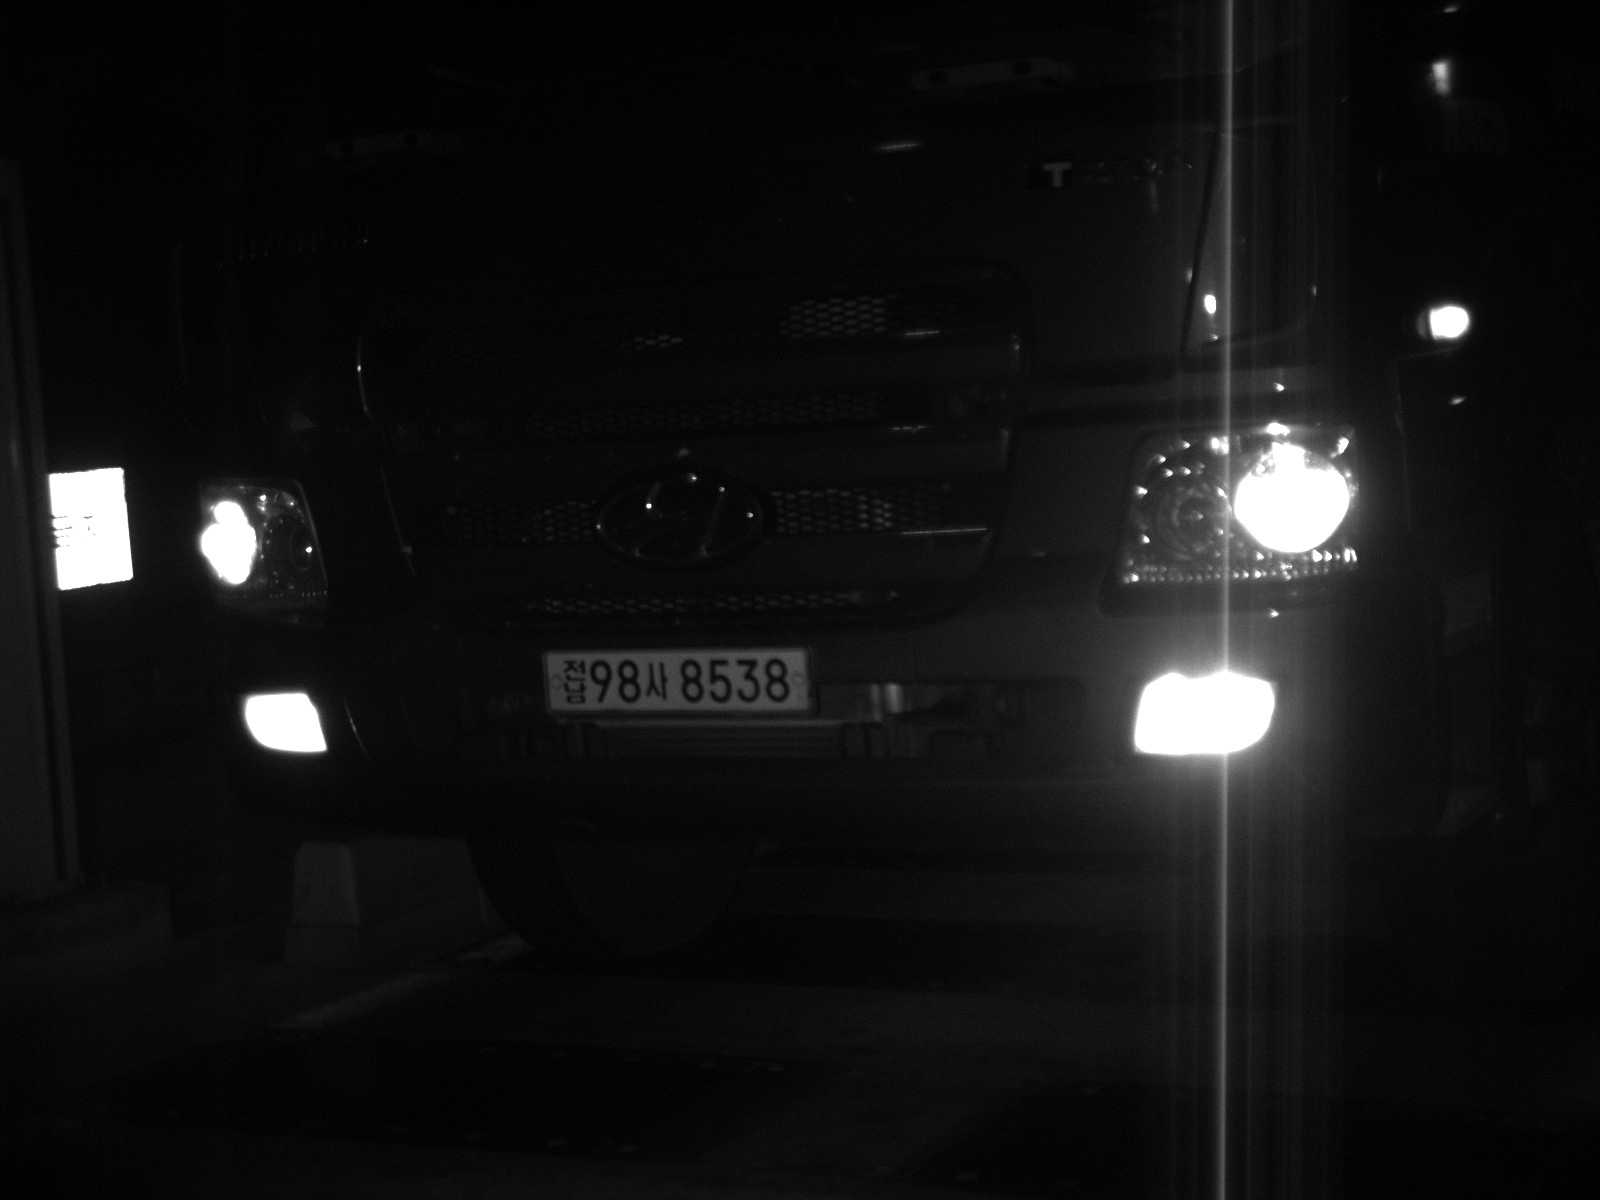car: (162, 12, 1592, 927)
plate: (540, 643, 815, 717)
